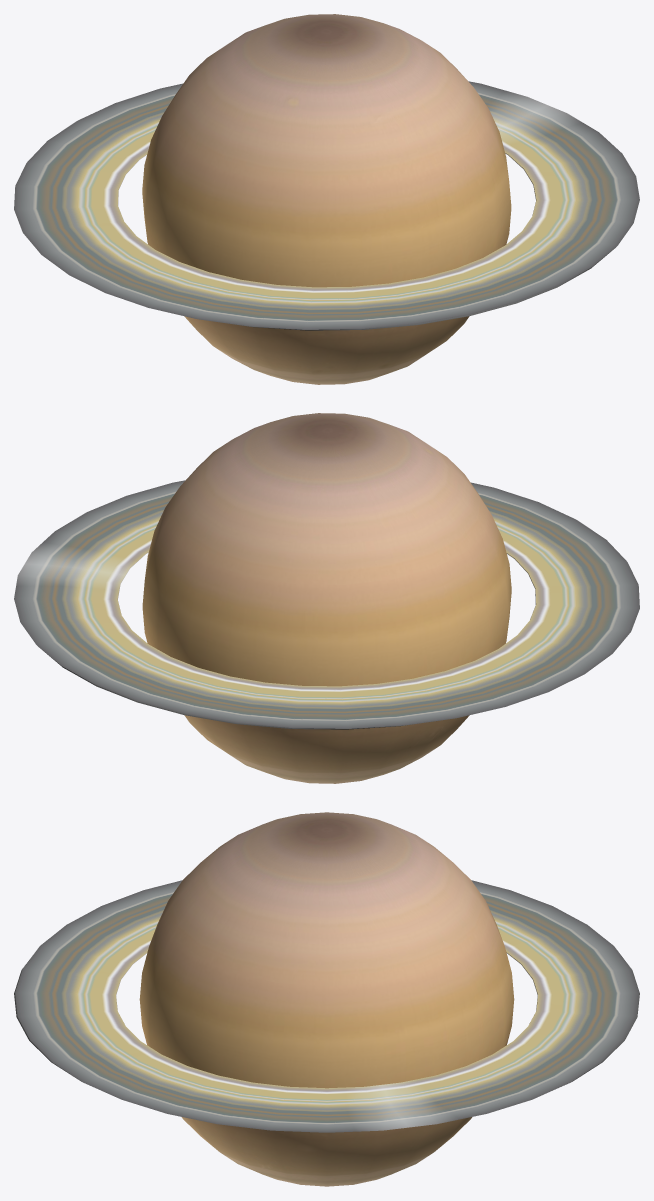
The model's file is Saturno.fbx.
3 views of the same model, one above another, from view 1: azimuth 30°, elevation 25°; view 2: azimuth 150°, elevation 25°; view 3: azimuth 270°, elevation 25° (orthographic).
Visible parts, largest first — view 1: pSphere1, pTorus1; view 2: pSphere1, pTorus1; view 3: pSphere1, pTorus1.
Part boxes in pixels (x1,y1,x2,y2): pSphere1: (142, 14, 511, 384); pTorus1: (14, 81, 639, 330); pSphere1: (142, 413, 511, 783); pTorus1: (14, 480, 639, 729); pSphere1: (139, 812, 514, 1186); pTorus1: (14, 880, 639, 1132).
Bounding box in the file's own units: 27.06 × 16 × 26.74.
2 materials, 2 textured.
